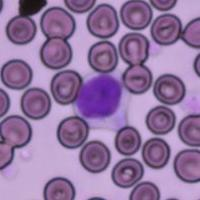L: (73, 70, 130, 130)
